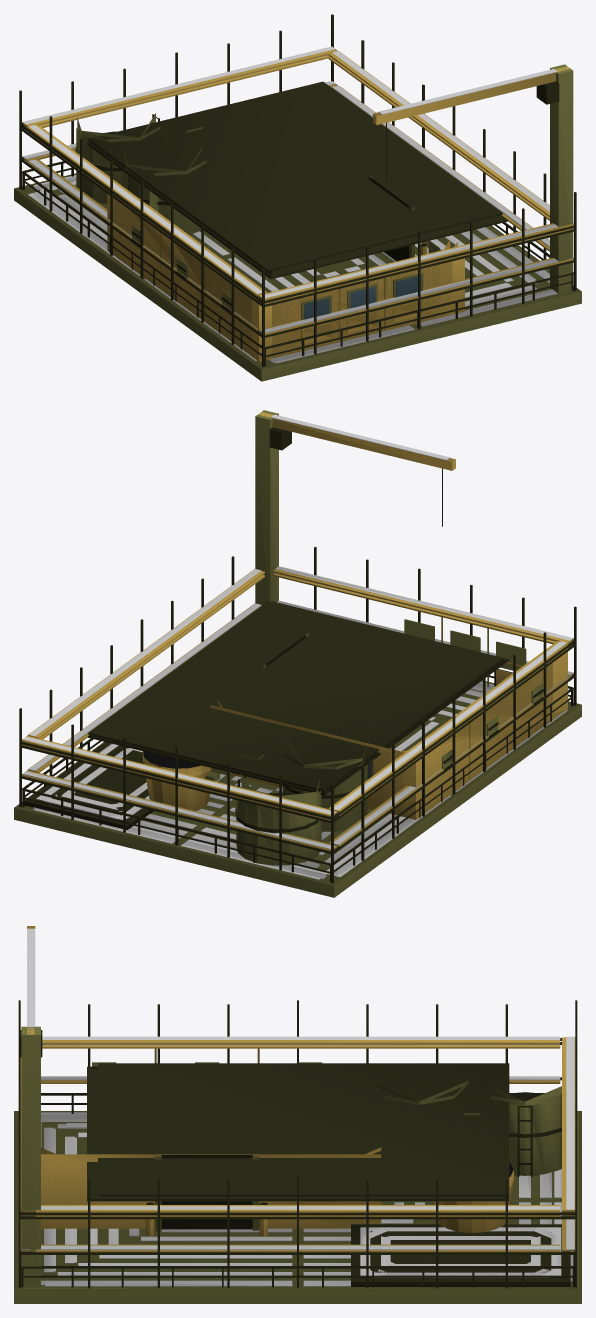
The model's file is meridian_refinery_scaffolding.glb.
3 views of the same model, one above another, from view 1: azimuth 30°, elevation 25°; view 2: azimuth 150°, elevation 25°; view 3: azimuth 270°, elevation 25° (orthographic). The views are drawn at different scales.
Parts seen in each view (by area): view 1: body (×3); view 2: body (×3); view 3: body (×3).
Part boxes in pixels (<box>): body (×3): <box>14,14,581,381</box>; body (×3): <box>14,410,581,897</box>; body (×3): <box>14,926,581,1303</box>.
Size of the model in its own units: 11.2 by 7.77 by 15.
